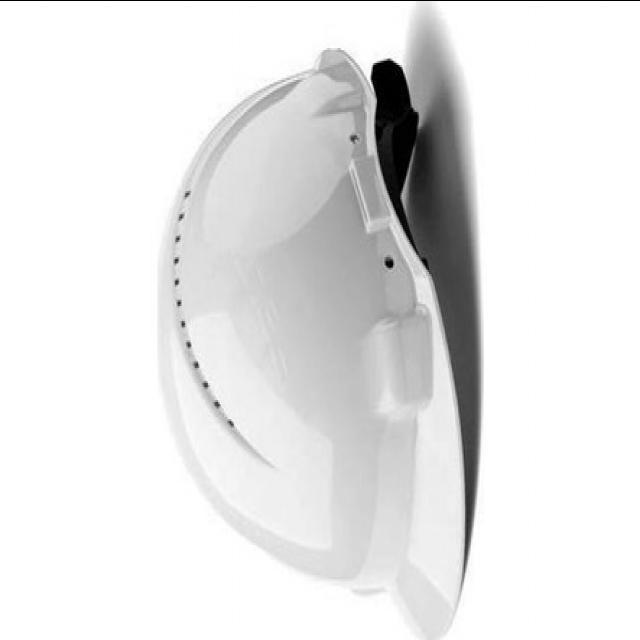construction helmet: (157, 47, 471, 640)
